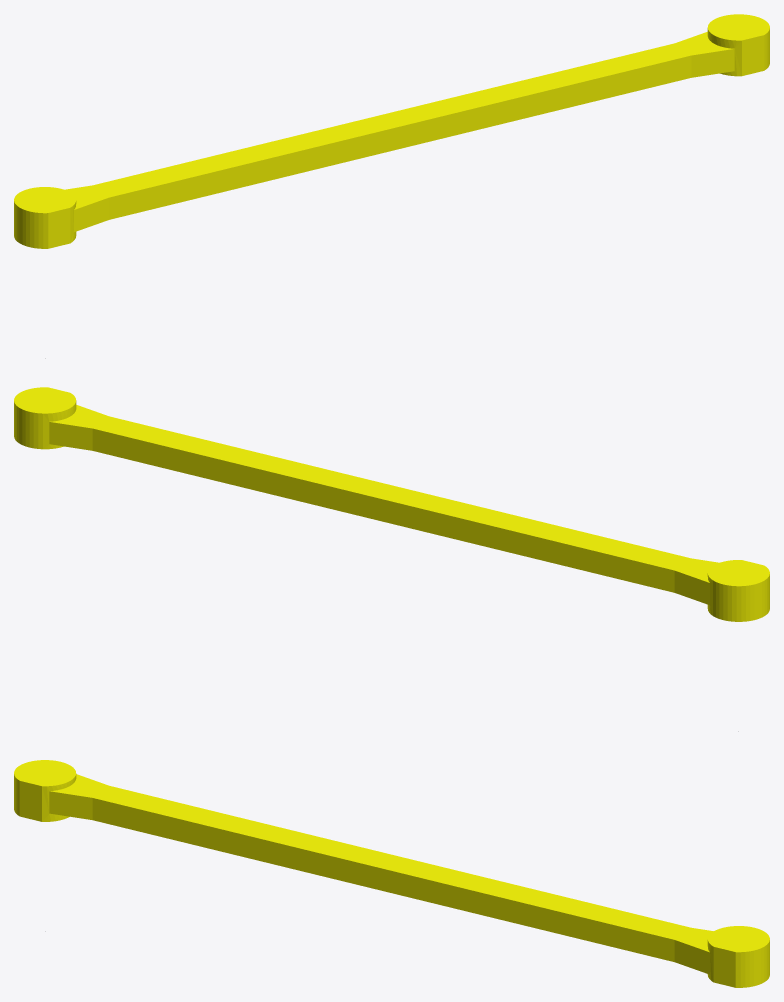
3 views of the same model, one above another, from view 1: azimuth 30°, elevation 25°; view 2: azimuth 150°, elevation 25°; view 3: azimuth 330°, elevation 25° (orthographic).
Parts seen in each view (by area): view 1: node; view 2: node; view 3: node.
Boxes of the visible parts, <box> form: node: <box>14,14,769,358</box>; node: <box>14,387,769,731</box>; node: <box>14,760,769,987</box>.
Size of the model in its own units: 1401 by 290 by 96.5.
